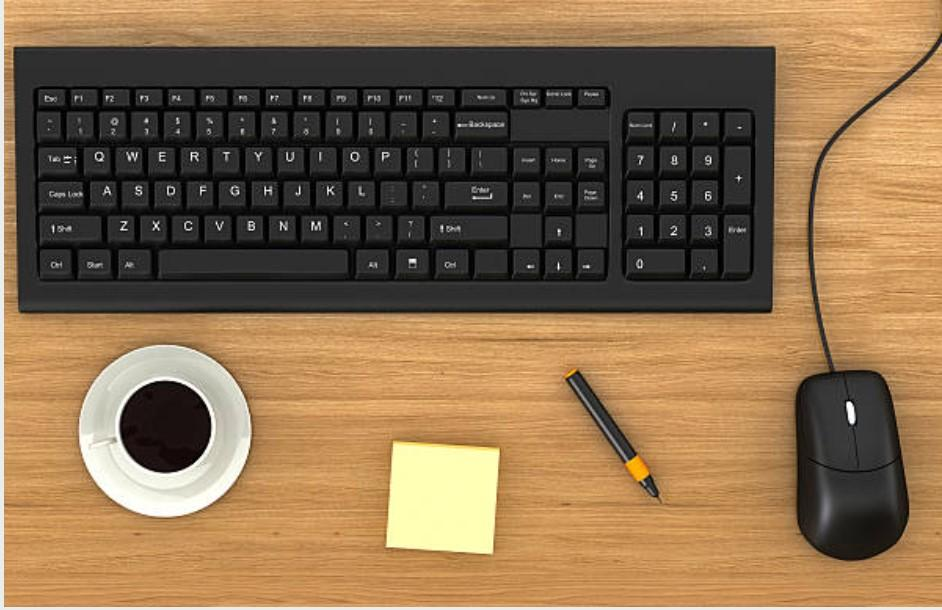Keyboard: (5, 44, 783, 319)
computer mouse: (796, 371, 911, 564)
